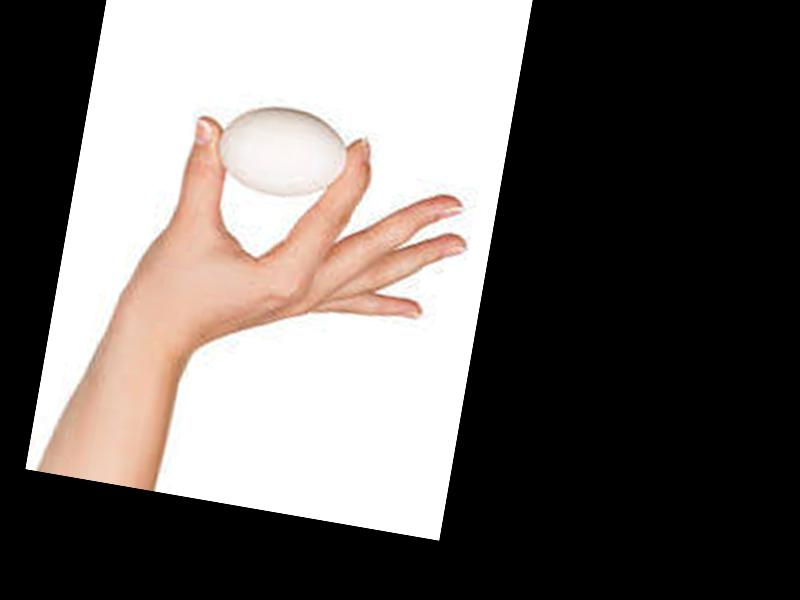Eggs: (212, 95, 354, 207)
